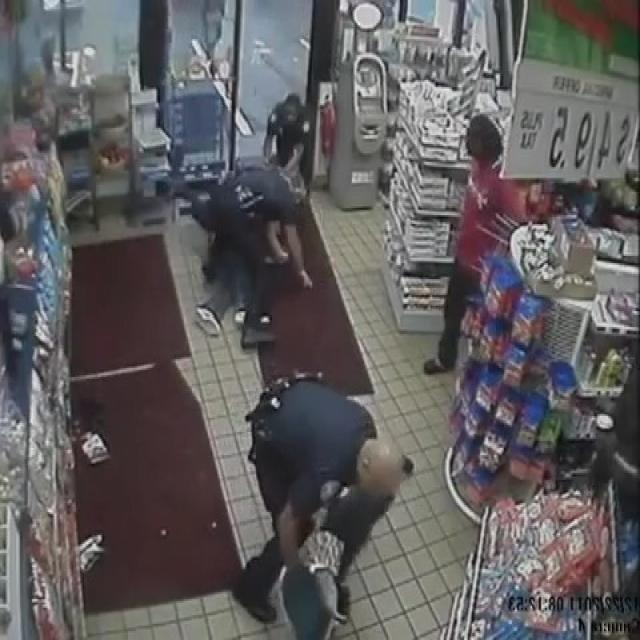fight: (195, 159, 312, 352)
